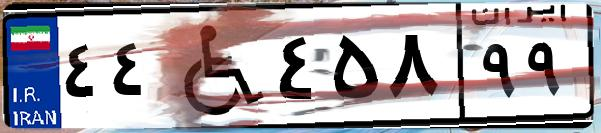4: (270, 28, 330, 110), (57, 26, 110, 100), (110, 28, 158, 98)
5: (330, 28, 385, 110)
8: (385, 28, 445, 110)
9: (475, 38, 525, 113), (525, 38, 570, 115)
ژ (معلولین و جانبازان): (158, 12, 270, 120)
